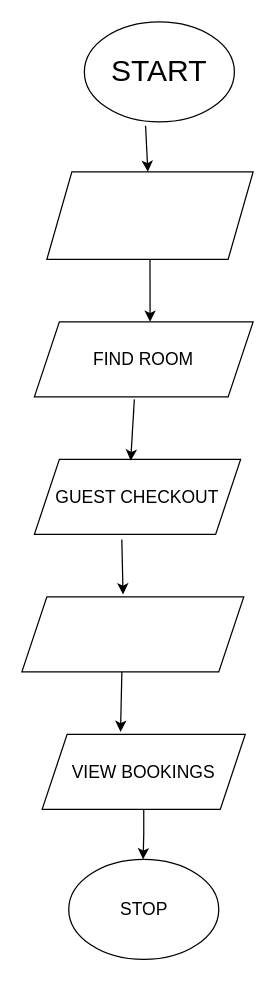
Image size: 275x981. Some labels were removed from this diagram. The shapes that lost their labels are listed below. From the top down, each one's centre as x and y in pixels, then its label:
At pixel 149 215: "FIND GUEST".
At pixel 132 634: "NEW GUEST".
